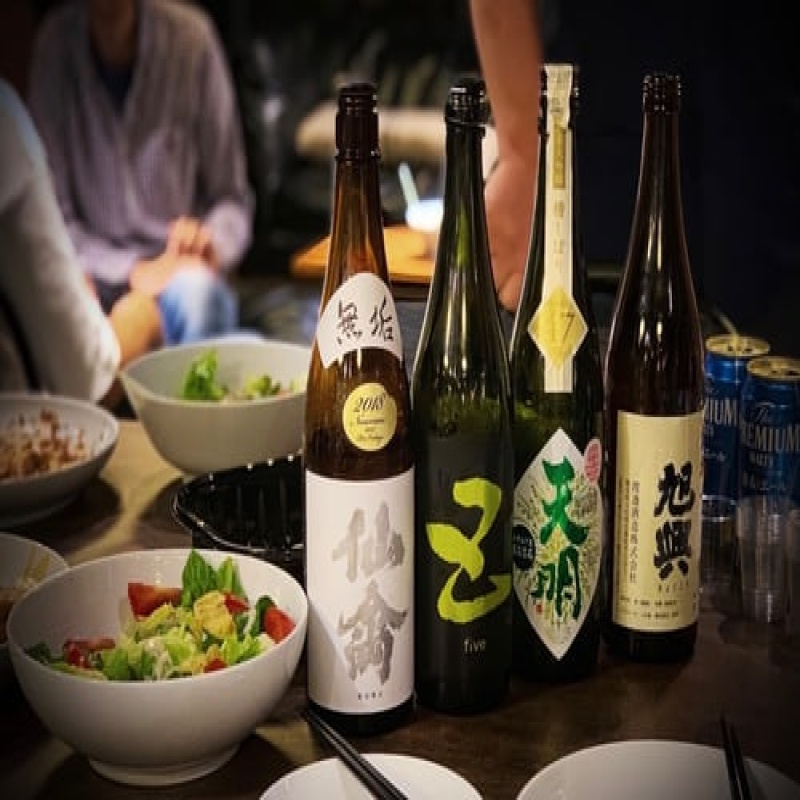wine: (304, 90, 414, 725), (516, 64, 616, 680), (419, 78, 511, 719), (616, 61, 705, 674)
